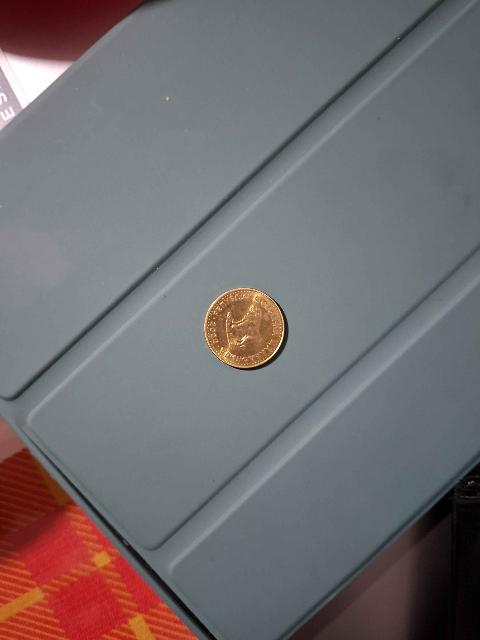1_coin: (205, 288, 284, 368)
